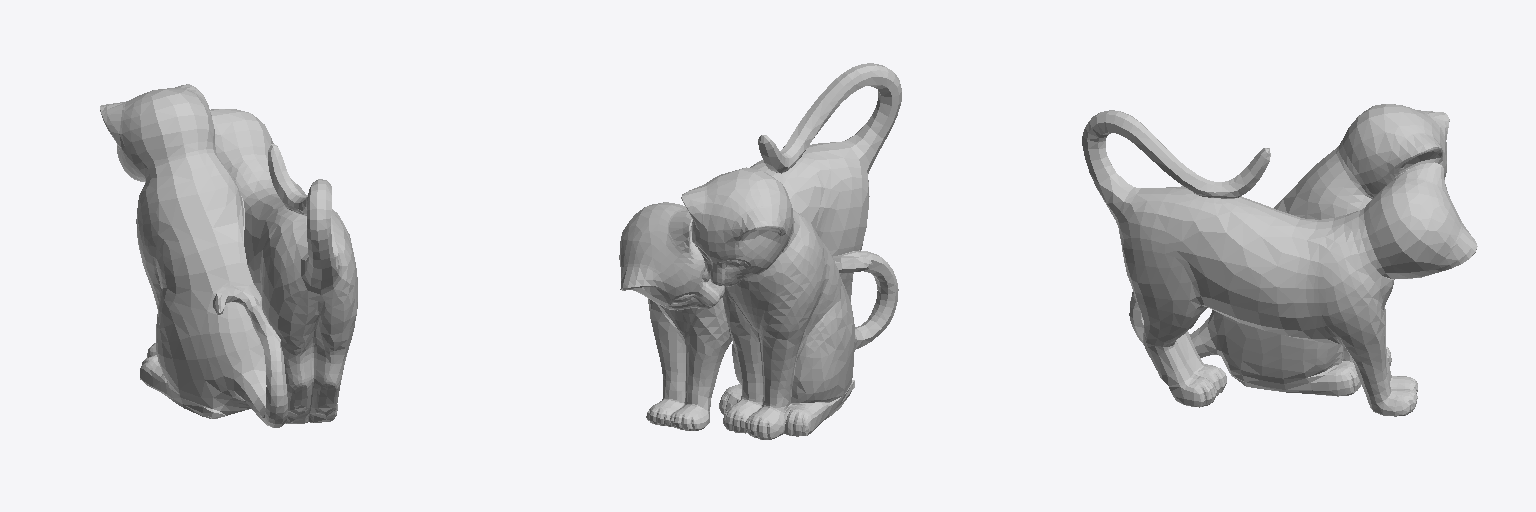
File: 2cats.obj
The picture shows the model from 3 angles: view 1: azimuth 30°, elevation 25°; view 2: azimuth 150°, elevation 25°; view 3: azimuth 270°, elevation 25°; orthographic projection.
Parts seen in each view (by area): view 1: cats; view 2: cats; view 3: cats.
Boxes of the visible parts, box(x1,y1,x2,y2) form: cats: box(100, 84, 357, 427); cats: box(619, 63, 901, 439); cats: box(1082, 104, 1477, 416).
Bounding box in the file's own units: 139 × 218 × 288.